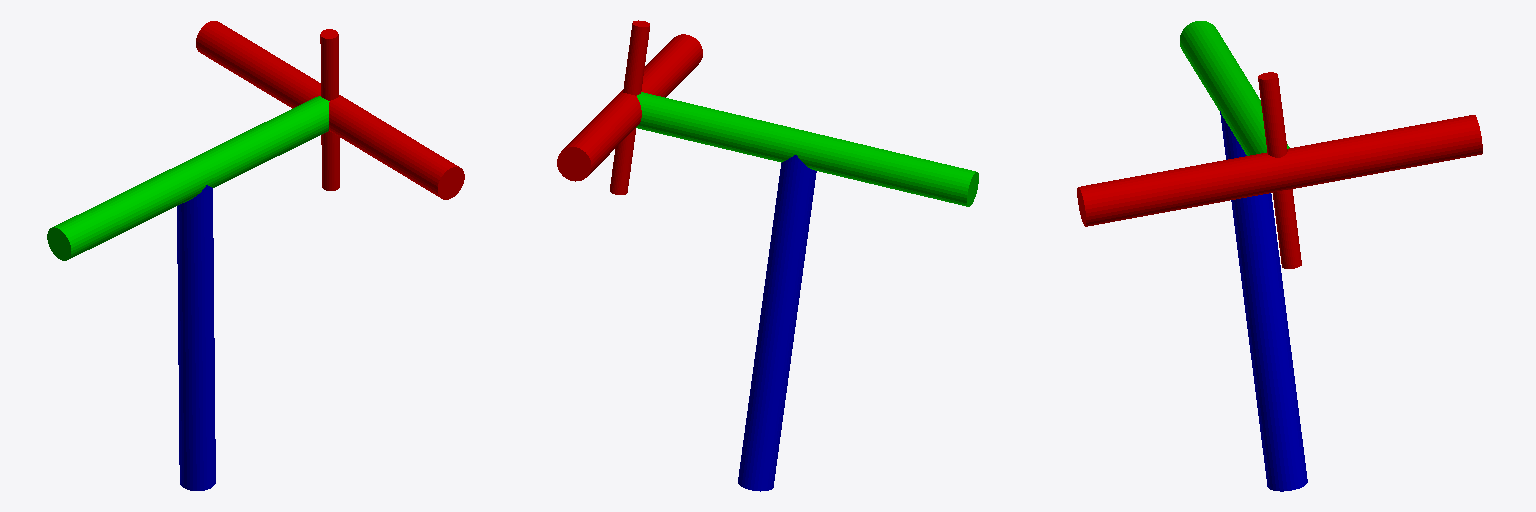
URDF robot description (3P3R):
<?xml version="1.0"?>
<robot name="3P3R">
  <material name="red">
    <color rgba="0.8 0 0 1"/>
  </material>
  <material name="green">
    <color rgba="0 0.8 0 1"/>
  </material>
  <material name="blue">
    <color rgba="0 0 0.8 1"/>
  </material>
  	
  <link name="world" />
  
  <link name="arm1">
    <visual>
      <geometry>
        <cylinder length="0.4" radius="0.02"/>
      </geometry>
      <origin xyz="0 0 0"/>
	  <material name="blue"/>
    </visual>
    <collision>
      <geometry>
        <cylinder length="0.4" radius="0.02"/>
      </geometry>
      <origin xyz="0 0 0"/>
    </collision>
  </link>
  
  <link name="arm2">
    <visual>
      <geometry>
        <cylinder length="0.4" radius="0.02"/>
      </geometry>
      <origin xyz="0 0 0"/>
      <material name="green"/>
    </visual>
    <collision>
      <geometry>
        <cylinder length="0.4" radius="0.02"/>
      </geometry>
      <origin xyz="0 0 0"/>
    </collision>
  </link>

  <link name="arm3">
    <visual>
      <geometry>
        <cylinder length="0.4" radius="0.02"/>
      </geometry>
      <origin xyz="0 0 0"/>
      <material name="red"/>
    </visual>
    <collision>
      <geometry>
        <cylinder length="0.4" radius="0.02"/>
      </geometry>
      <origin xyz="0 0 0"/>
    </collision>
  </link>
    
  <link name="wrist1" />
  <link name="wrist2" />
  <link name="wrist3" />
  <link name="tool">
     <visual>
      <geometry>
        <cylinder length="0.2" radius="0.01"/>
      </geometry>
      <origin xyz="0 0 0"/>
      <material name="red"/>
    </visual>
  </link>
  <link name="tool_frame" />

  <joint name="world_to_arm1" type="fixed">
    <parent link="world"/>
    <child link="arm1"/>
    <origin xyz="0 0 0" rpy="0.1 -0.1 0.2"/>
  </joint>
  
  <joint name="prismatic1" type="prismatic">
    <parent link="arm1"/>
    <child link="arm2"/>
    <axis xyz="-1 0 0"/> 
    <origin rpy="0 1.5707963268 0" xyz="0 0 0.2"/>
    <limit effort="1000.0" lower="-1" upper="1" velocity="0.5"/>
  </joint>
  
  <joint name="prismatic2" type="prismatic">
    <parent link="arm2"/>
    <child link="arm3"/>
    <axis xyz="0 1 0"/>
    <origin rpy="1.5707963268 0 0" xyz="0 0 0.2"/>
    <limit effort="1000.0" lower="-1" upper="1" velocity="0.5"/>
  </joint>
  
  <joint name="prismatic3" type="prismatic">
	<parent link="arm3"/>
    <child link="wrist1"/>
    <axis xyz="0 0 1"/>
    <origin rpy="0 0 0" xyz="0 0 0"/>
    <limit effort="1000.0" lower="-1" upper="1" velocity="0.5"/>
  </joint>

  <joint name="revolute1" type="continuous">
	 <parent link="wrist1"/>
     <child link="wrist2"/>
     <axis xyz="0 0 1"/>
	 <origin rpy="0 0 0" xyz="0 0 0"/>
  </joint>

  <joint name="revolute2" type="continuous">
	 <parent link="wrist2"/>
     <child link="wrist3"/>
     <axis xyz="0 0 1"/>
     <origin rpy="-1.5707963268 0 0" xyz="0 0 0"/>
  </joint>

  <joint name="revolute3" type="continuous">
	 <parent link="wrist3"/>
     <child link="tool"/>
     <axis xyz="0 0 1"/>
     <origin rpy="0 -1.5707963268 0" xyz="0 0 0"/>
  </joint>

  <joint name="tool_to_tool_frame" type="fixed">
	 <parent link="tool"/>
     <child link="tool_frame"/>
     <origin xyz="0.5 0 0"/>
  </joint>

</robot>

--- What the picture shows (computed from the rendered views, not written in the file) ---
3 views of the same robot in one strip: view 1: azimuth 30°, elevation 25°; view 2: azimuth 150°, elevation 25°; view 3: azimuth 270°, elevation 25° (orthographic).
Robot: 3P3R — 9 links, 8 joints (3 continuous, 3 prismatic, 2 fixed); root link world; default pose: every joint at zero.
Visible links, largest first — view 1: arm2, arm1, arm3, tool; view 2: arm2, arm1, arm3, tool; view 3: arm3, arm1, arm2, tool.
Boxes of the visible links, x1,y1,x2,y2 form: arm2: (47, 96, 329, 260); arm1: (177, 185, 215, 490); arm3: (196, 21, 464, 199); tool: (320, 29, 339, 190); arm2: (636, 92, 978, 206); arm1: (738, 155, 816, 491); arm3: (557, 34, 702, 181); tool: (610, 20, 649, 194); arm3: (1077, 115, 1482, 226); arm1: (1220, 111, 1307, 491); arm2: (1180, 21, 1289, 155); tool: (1258, 72, 1301, 268).
Bounding box of the posed robot: 0.4555 × 0.3985 × 0.5192 m (x, y, z).
Geometry: primitives only (box / cylinder / sphere), no mesh files.